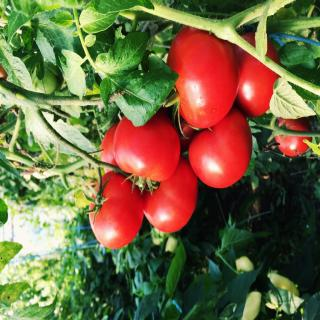tomato: (171, 27, 244, 128), (112, 115, 180, 193), (187, 108, 252, 189), (85, 171, 144, 251), (232, 32, 283, 118), (144, 155, 199, 233), (274, 118, 312, 157), (100, 122, 118, 175)
